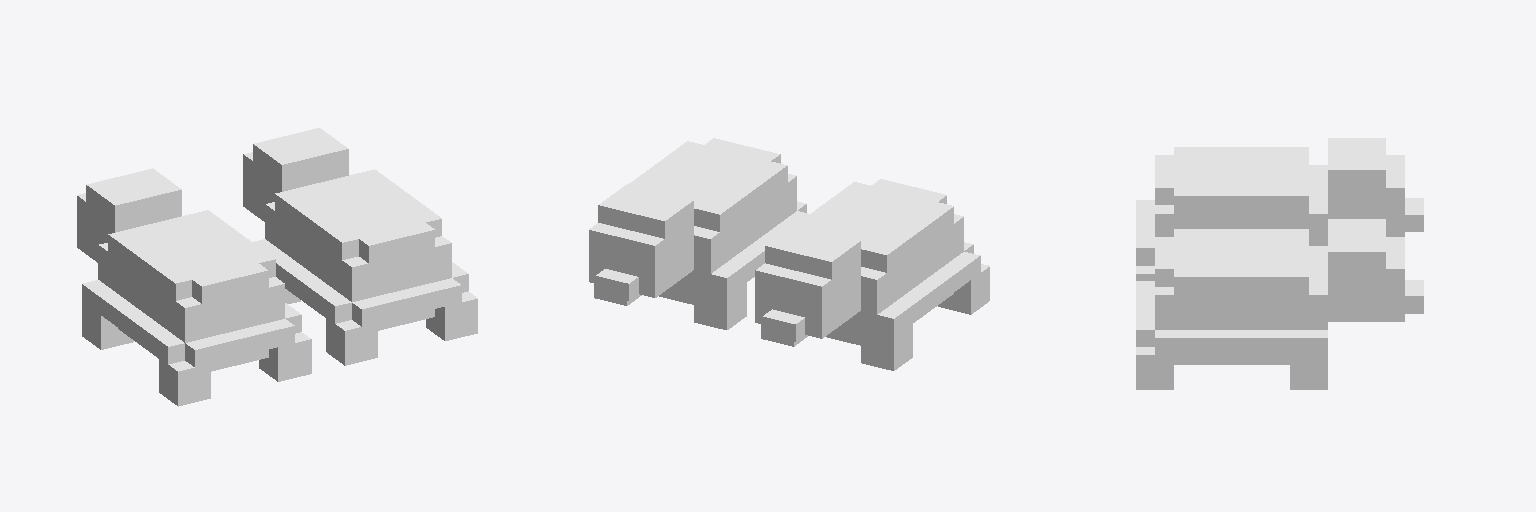
The model's file is DoubleTurtle.obj.
3 renders of one model, left to right at view 1: azimuth 30°, elevation 25°; view 2: azimuth 150°, elevation 25°; view 3: azimuth 270°, elevation 25°, orthographic.
Bounding box in the file's own units: 18 × 7 × 15.